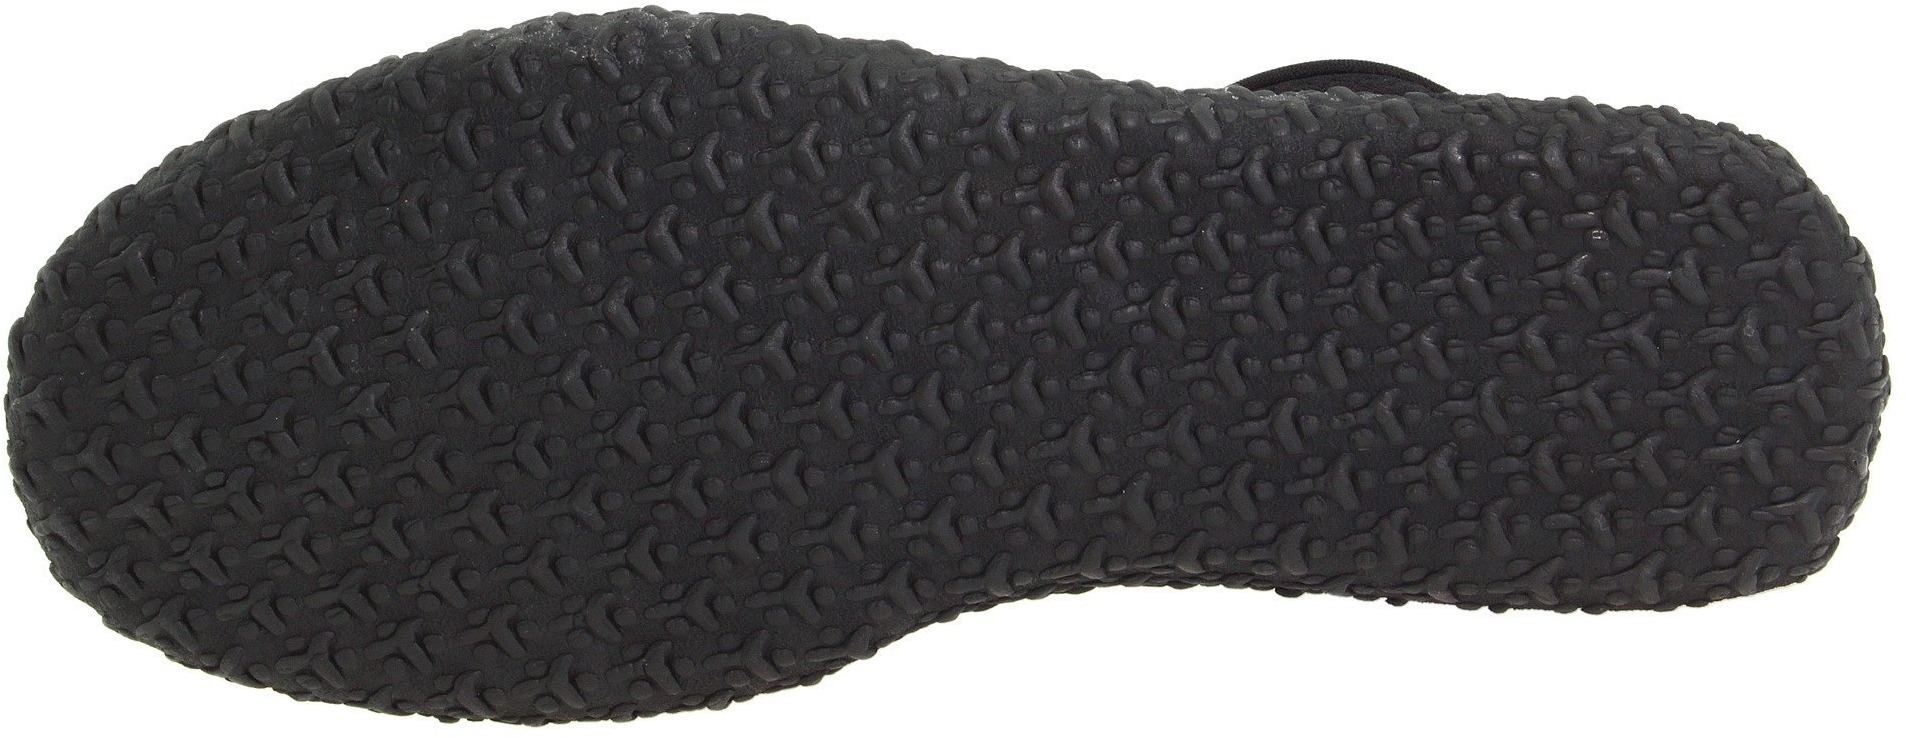quad: (802, 116, 1288, 562), (1306, 141, 1754, 567)
star: (802, 116, 1288, 562), (1306, 141, 1754, 567)
